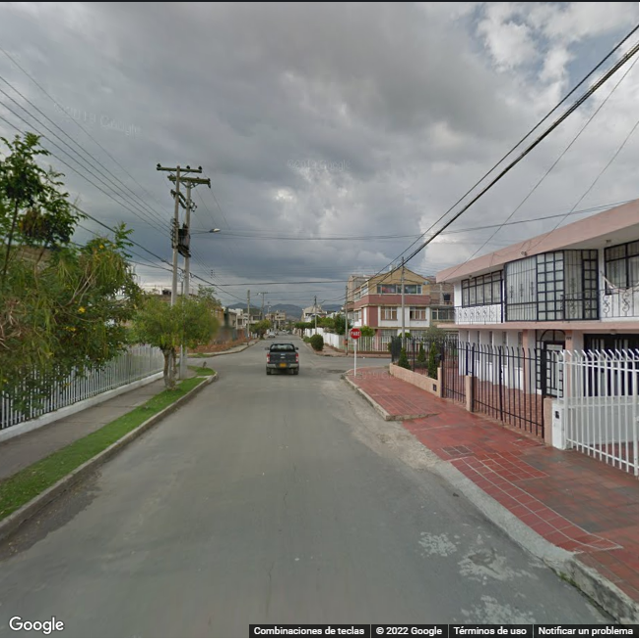D00: (259, 549, 272, 623), (283, 458, 295, 512), (343, 536, 355, 578)
